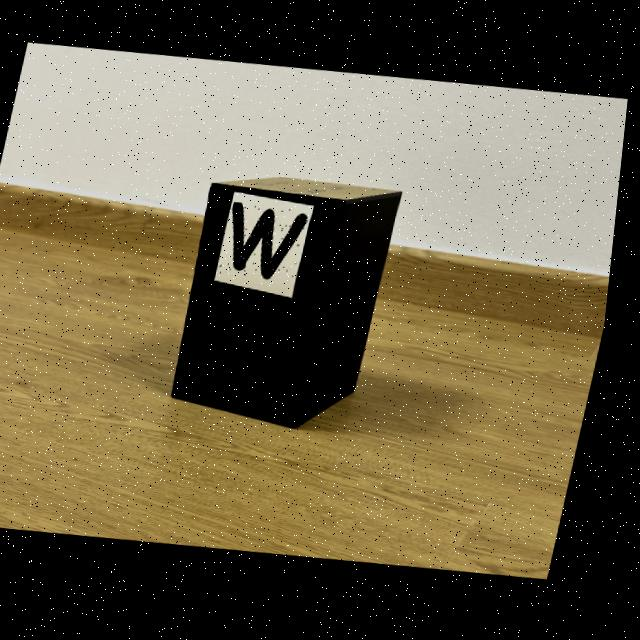W: (236, 204, 312, 279)
